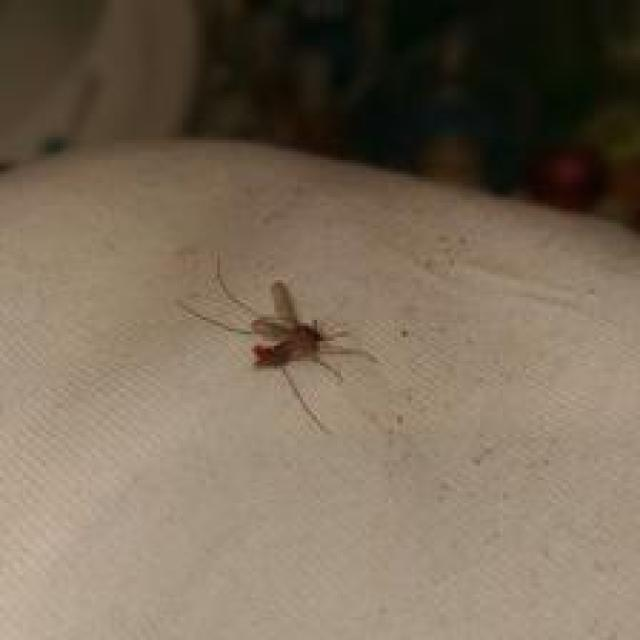Culex: (176, 252, 387, 434)
